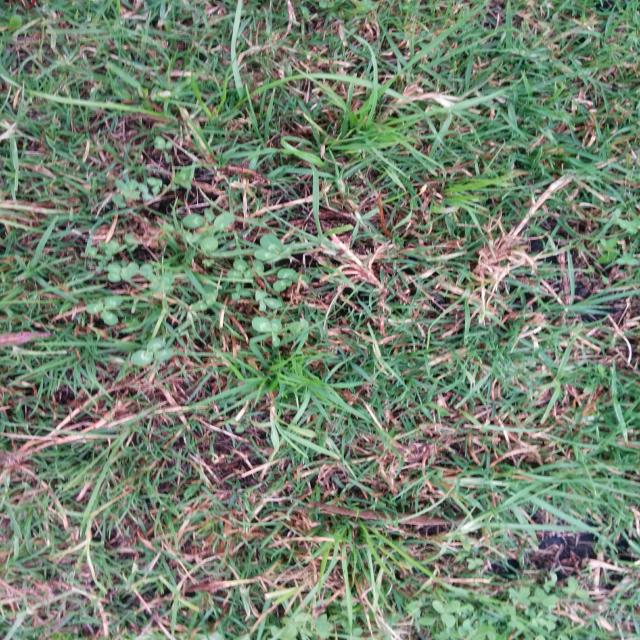Four Leaf Clover: (254, 234, 295, 262)
